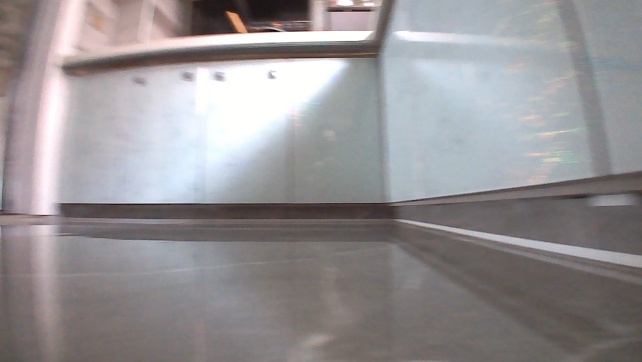cupboard: (52, 0, 641, 268)
